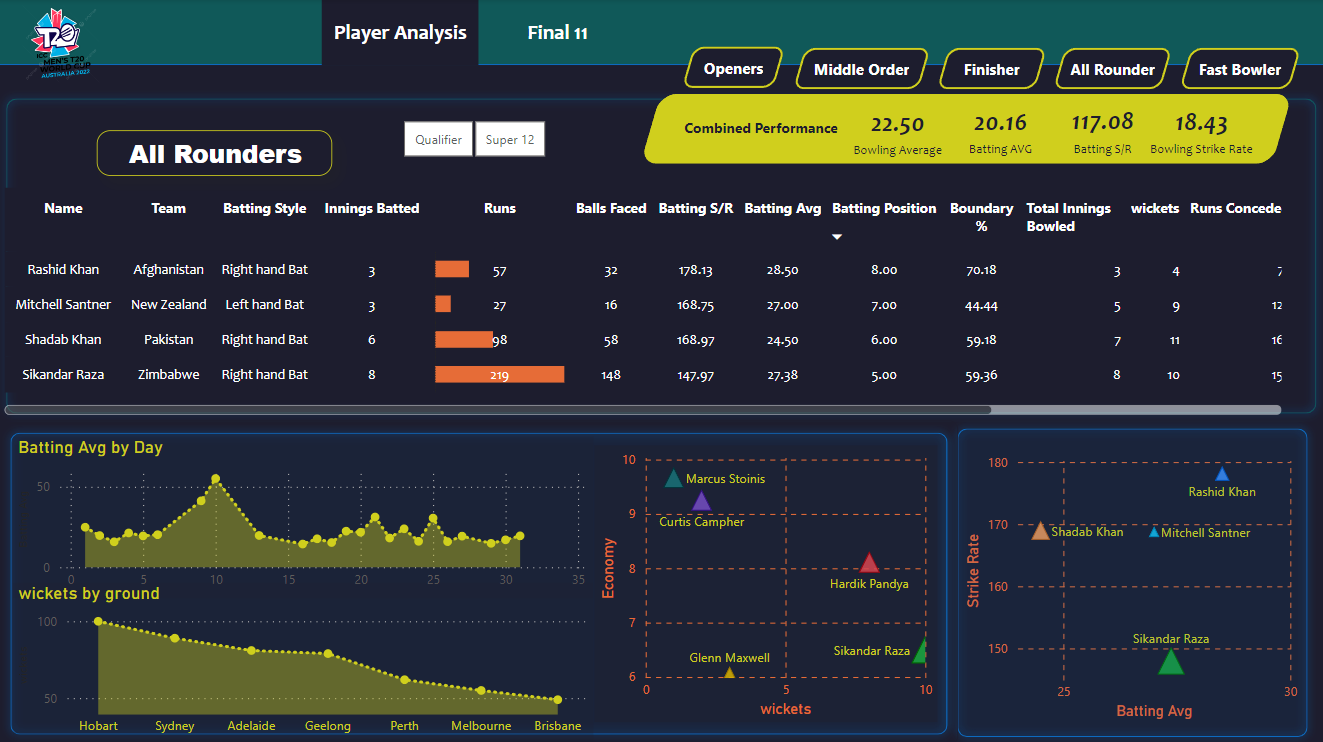

The dashboard page shown, as its layout file describes it:
{"tool":"powerbi","page":{"name":"ALL ROUNDERS","canvas":[1280,720],"ordinal":3},"visuals":[{"type":"shape","box":[0,62.5,1280,657.5],"z":0},{"type":"shape","box":[0,87.5,1280,320],"z":1000},{"type":"tableEx","fields":{"Values":["player_info.name","player_info.team","player_info.battingStyle","Key_Measures.Total Innings Batted","Key_Measures.Total Runs","Key_Measures.total balls faced","Key_Measures.Strike Rate","Key_Measures.Batting Avg","Key_Measures.Batting Position","Key_Measures.Boundary %","Key_Measures.Total Innings Bowled","Key_Measures.wickets"]},"box":[0,177.5,1243.8,228.8],"z":2000},{"type":"scatterChart","fields":{"Category":["player_info.name"],"X":["Key_Measures.Batting Avg"],"Y":["Key_Measures.Strike Rate"],"Series":["player_info.name"],"Size":["Key_Measures.Total Runs"]},"box":[927.5,432.5,331.2,267.5],"z":3000},{"type":"shape","box":[917.5,406.2,353.8,313.8],"z":4000},{"type":"shape","box":[620,91.2,628.8,67.5],"z":5000},{"type":"card","fields":{"Values":["Key_Measures.Batting Avg"]},"box":[897.5,91.6,140,67.5],"z":6000},{"type":"card","fields":{"Values":["Key_Measures.Strike Rate"]},"box":[1000,92.2,132.5,66.2],"z":7000},{"type":"shape","box":[637.5,102.5,196.2,43.8],"z":8000},{"type":"shape","box":[0,406.2,926.2,313.8],"z":9000},{"type":"actionButton","box":[660,46.2,100,40],"z":10000},{"type":"actionButton","box":[766.6,46.6,132.5,40],"z":11000},{"type":"actionButton","box":[905.6,46.9,106.2,40],"z":12000},{"type":"actionButton","box":[1018.4,47.2,115,40],"z":13000},{"type":"actionButton","box":[1140,47.5,117.5,40],"z":14000},{"type":"slicer","fields":{"Values":["match_summary.Stage"]},"box":[365,111.2,186.2,47.5],"z":15000},{"type":"areaChart","fields":{"Y":["Key_Measures.Batting Avg"],"Category":["match_summary.matchDate.Variation.Date Hierarchy.Day"]},"box":[15,422.5,560,156.2],"z":16000},{"type":"image","box":[0,0,122.5,87.5],"z":17000},{"type":"textbox","title":"All Rounders","box":[95,126.2,227.5,43.8],"z":18000},{"type":"actionButton","title":"Player Analysis","box":[312.5,0,151.2,63.8],"z":19000},{"type":"actionButton","title":"Player Analysis","box":[463.8,0,151.2,62.5],"z":20000},{"type":"scatterChart","fields":{"Category":["player_info.name"],"Series":["player_info.name"],"Size":["Key_Measures.Total Runs"],"X":["Key_Measures.wickets"],"Y":["Key_Measures.Economy"]},"box":[575,430,331.2,267.5],"z":21000},{"type":"areaChart","fields":{"Y":["Key_Measures.wickets"],"Category":["match_summary.ground"]},"box":[15,563.8,560,156.2],"z":22000},{"type":"card","fields":{"Values":["Key_Measures.Bowling Average"]},"box":[802.5,92.5,132.5,67.5],"z":23000},{"type":"card","fields":{"Values":["Key_Measures.Bowling Strike Rate"]},"box":[1095,91.2,132.5,67.5],"z":24000}]}

Visuals, with their boxes in screenshot pixels (x1, y1, x2, y2), scaled from the page's 1280x720 canvas onto the 1323x742 screenshot:
shape: (0, 64, 1322, 741)
shape: (0, 90, 1322, 420)
tableEx - player_info.name x player_info.team: (0, 183, 1286, 419)
scatterChart - player_info.name x Key_Measures.Batting Avg: (959, 446, 1301, 721)
shape: (948, 419, 1314, 741)
shape: (641, 94, 1291, 164)
card - Key_Measures.Batting Avg: (928, 94, 1072, 164)
card - Key_Measures.Strike Rate: (1034, 95, 1171, 163)
shape: (659, 106, 862, 151)
shape: (0, 419, 957, 741)
actionButton: (682, 48, 786, 89)
actionButton: (792, 48, 929, 89)
actionButton: (936, 48, 1046, 90)
actionButton: (1053, 49, 1171, 90)
actionButton: (1178, 49, 1300, 90)
slicer - match_summary.Stage: (377, 115, 570, 164)
areaChart - Key_Measures.Batting Avg x match_summary.matchDate.Variation.Date Hierarchy.Day: (16, 435, 594, 596)
image: (0, 0, 127, 90)
"All Rounders" textbox: (98, 130, 333, 175)
"Player Analysis" actionButton: (323, 0, 479, 66)
"Player Analysis" actionButton: (479, 0, 636, 64)
scatterChart - player_info.name x player_info.name: (594, 443, 937, 719)
areaChart - Key_Measures.wickets x match_summary.ground: (16, 581, 594, 741)
card - Key_Measures.Bowling Average: (829, 95, 966, 165)
card - Key_Measures.Bowling Strike Rate: (1132, 94, 1269, 164)
